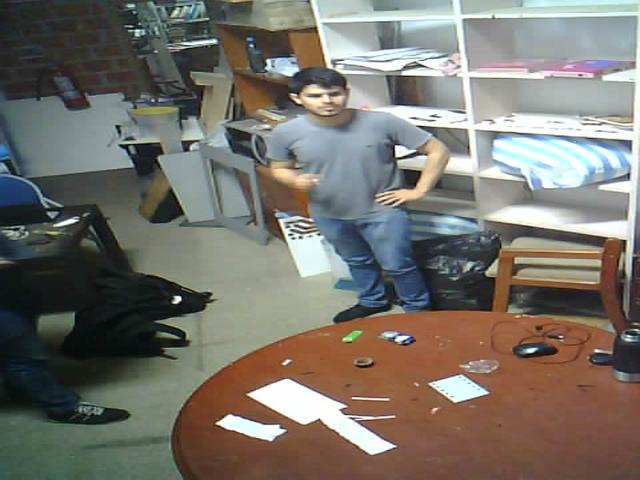person: (251, 36, 459, 339)
